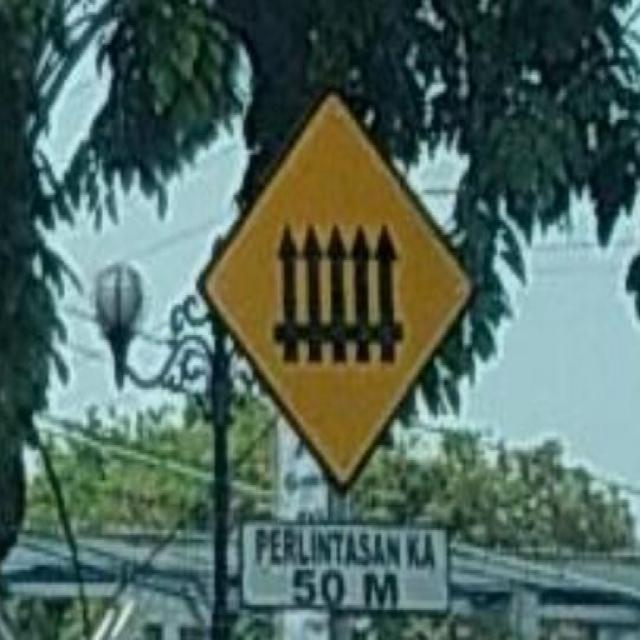traffic sign: (219, 102, 470, 480)
